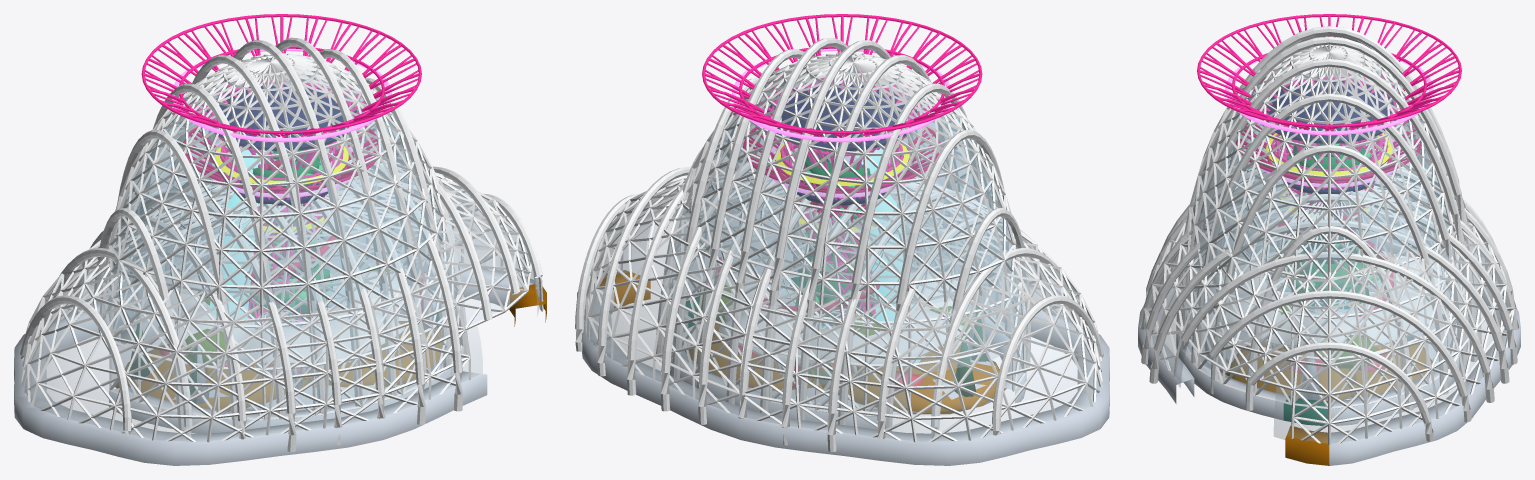
The model's file is buildings_landmarks.glb.
3 renders of one model, left to right at view 1: azimuth 30°, elevation 25°; view 2: azimuth 150°, elevation 25°; view 3: azimuth 270°, elevation 25°, orthographic. The views are drawn at different scales.
Visible parts, largest first — view 1: Cloud_Forest_Steel_Grid, Flower_Dome_Steel_Grid, Flower_Dome_Glass, Cloud_Forest_Glass, Flower_Dome_Base_And_Flora, Supertree_Hero_Crown_Canopy_Ribs, Cloud_Forest_Mountain, Bay_East_Lotus_Roof, Supertree_Hero_Solar_Crown_Disc, Supertree_Medium_Crown_Canopy_Ribs, Cloud_Forest_Waterfall, Supertree_Hero_LED_Crown_Halo (+2 smaller); view 2: Flower_Dome_Steel_Grid, Cloud_Forest_Steel_Grid, Flower_Dome_Glass, Cloud_Forest_Glass, Flower_Dome_Base_And_Flora, Supertree_Hero_Crown_Canopy_Ribs, Bay_East_Lotus_Roof, Cloud_Forest_Mountain, Supertree_Hero_Solar_Crown_Disc, Supertree_Medium_Crown_Canopy_Ribs, Cloud_Forest_Waterfall, Supertree_Hero_LED_Crown_Halo (+2 smaller); view 3: Cloud_Forest_Steel_Grid, Flower_Dome_Steel_Grid, Flower_Dome_Glass, Cloud_Forest_Glass, Flower_Dome_Base_And_Flora, Supertree_Hero_Crown_Canopy_Ribs, Cloud_Forest_Mountain, Bay_East_Lotus_Roof, Supertree_Hero_Solar_Crown_Disc, Supertree_Medium_Crown_Canopy_Ribs, Supertree_Hero_LED_Crown_Halo, Supertree_Hero_Exoskeleton_Diagrid (+3 smaller).
Part boxes in pixels (x1,y1,x2,y2): Cloud_Forest_Steel_Grid: (94,37,467,430); Flower_Dome_Steel_Grid: (20,151,543,451); Flower_Dome_Glass: (25,170,539,441); Cloud_Forest_Glass: (103,59,456,411); Flower_Dome_Base_And_Flora: (14,254,546,465); Supertree_Hero_Crown_Canopy_Ribs: (141,14,421,171); Cloud_Forest_Mountain: (109,151,463,433); Bay_East_Lotus_Roof: (159,268,404,389); Supertree_Hero_Solar_Crown_Disc: (206,84,356,151); Supertree_Medium_Crown_Canopy_Ribs: (182,125,378,207); Cloud_Forest_Waterfall: (209,149,265,363); Supertree_Hero_LED_Crown_Halo: (172,48,391,142); Flower_Dome_Steel_Grid: (575,150,1103,451); Cloud_Forest_Steel_Grid: (655,37,1030,431); Flower_Dome_Glass: (589,180,1099,441); Cloud_Forest_Glass: (666,58,1022,408); Flower_Dome_Base_And_Flora: (577,257,1109,465); Supertree_Hero_Crown_Canopy_Ribs: (702,14,982,171); Bay_East_Lotus_Roof: (719,270,963,380); Cloud_Forest_Mountain: (662,150,1026,429); Supertree_Hero_Solar_Crown_Disc: (767,84,917,150); Supertree_Medium_Crown_Canopy_Ribs: (743,127,940,208); Cloud_Forest_Waterfall: (856,148,920,363); Supertree_Hero_LED_Crown_Halo: (732,48,951,142); Cloud_Forest_Steel_Grid: (1176,26,1481,410); Flower_Dome_Steel_Grid: (1139,140,1519,444); Flower_Dome_Glass: (1145,167,1513,443); Cloud_Forest_Glass: (1181,47,1459,400); Flower_Dome_Base_And_Flora: (1138,218,1520,465); Supertree_Hero_Crown_Canopy_Ribs: (1197,14,1461,162); Cloud_Forest_Mountain: (1176,143,1468,425); Bay_East_Lotus_Roof: (1213,254,1443,348); Supertree_Hero_Solar_Crown_Disc: (1261,80,1399,143); Supertree_Medium_Crown_Canopy_Ribs: (1236,120,1420,194); Supertree_Hero_LED_Crown_Halo: (1225,58,1433,135); Supertree_Hero_Exoskeleton_Diagrid: (1271,134,1388,291).
Size of the model in its own units: 29.27 by 17.99 by 19.86.
